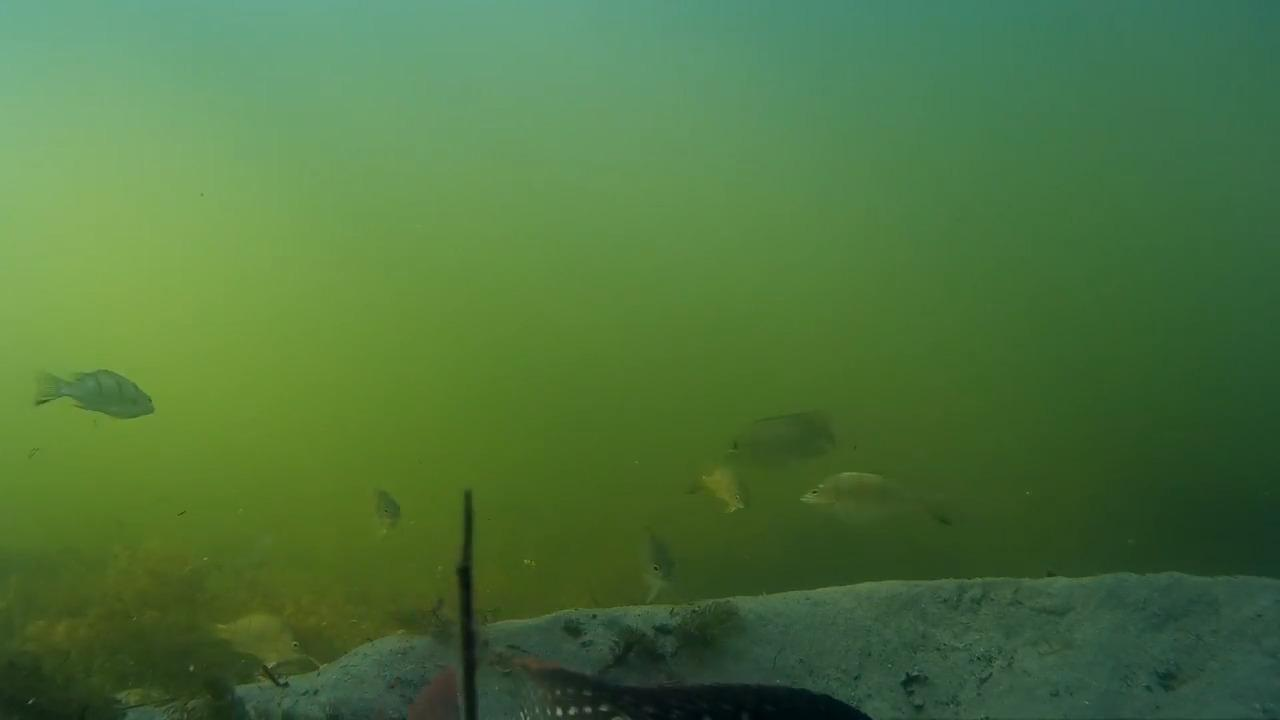Tilapia: (161, 596, 329, 684), (802, 468, 975, 548), (697, 382, 840, 470), (608, 520, 717, 600), (687, 450, 754, 530), (356, 480, 423, 542)
